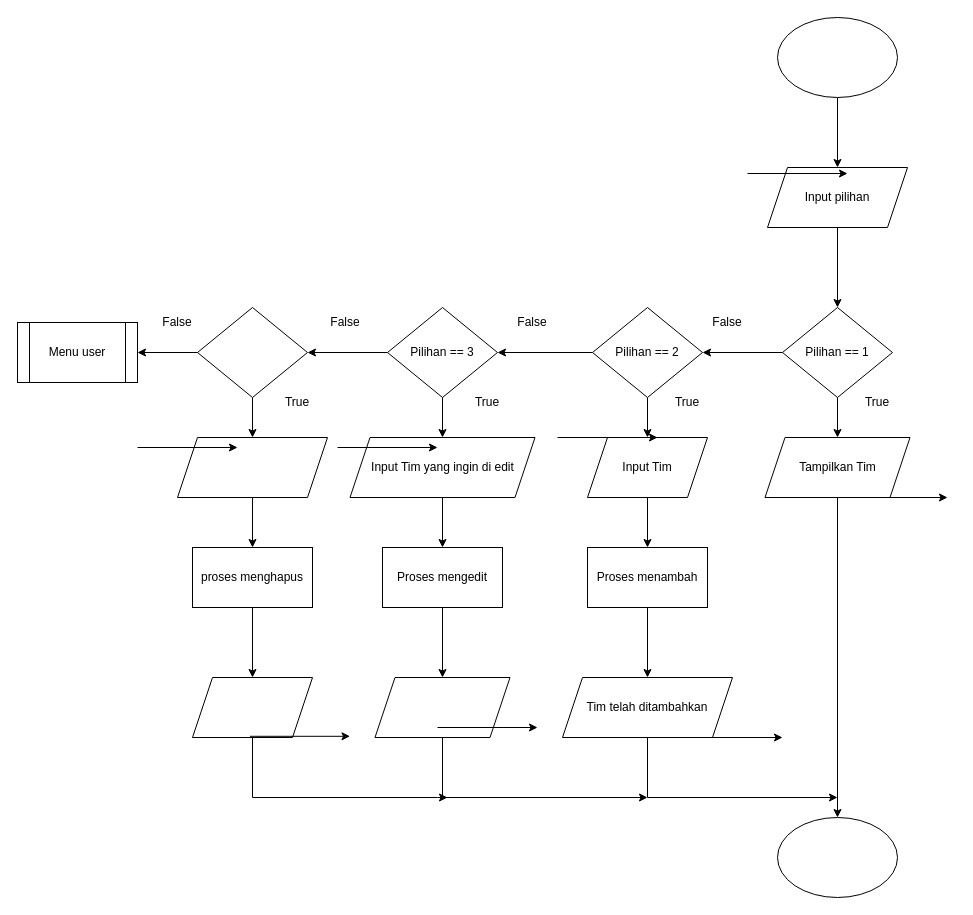
Some shapes in this 973 by 915 pixel diagram are drawn without their labels. Each missing label, with the centre of its shape:
end: the point at 837,857
Input Tim yang ingin dihapus: the point at 252,467
Menu driver: the point at 837,57
Pilihan == 4: the point at 252,352
tim telah di perbarui: the point at 442,707
Tim telah dihapus: the point at 252,707
